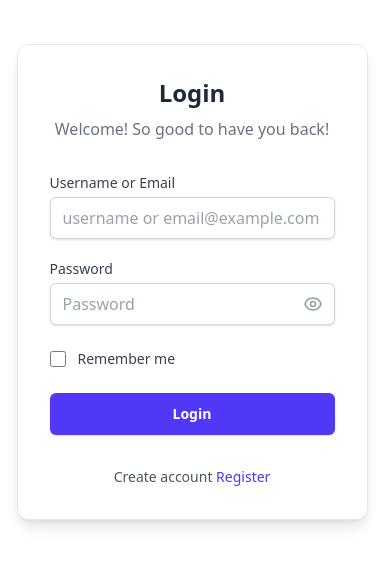
Test case: Login Component › should extract error message from err.message
This screenshot has width=385, height=574.
Step 1. Type "test@test.com" into the field with id "email" → {"x": 192, "y": 218}, box left=50, top=197, right=334, bottom=239
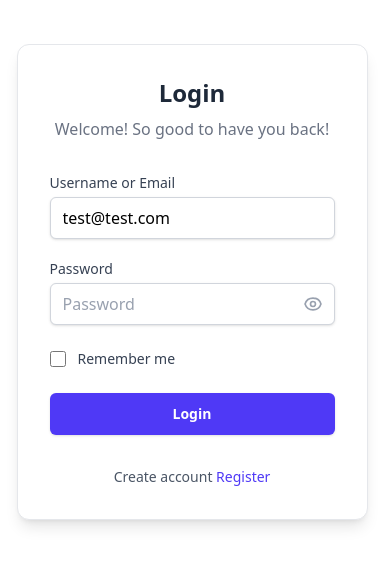
Step 2. Type "password123" into the password field with placeholder "Password" → {"x": 192, "y": 304}, box left=50, top=283, right=334, bottom=325
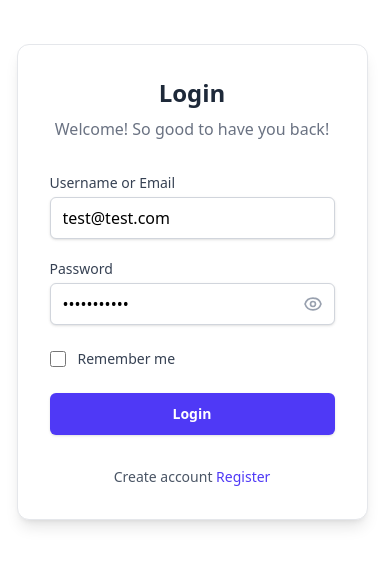
Step 3. Submit the form
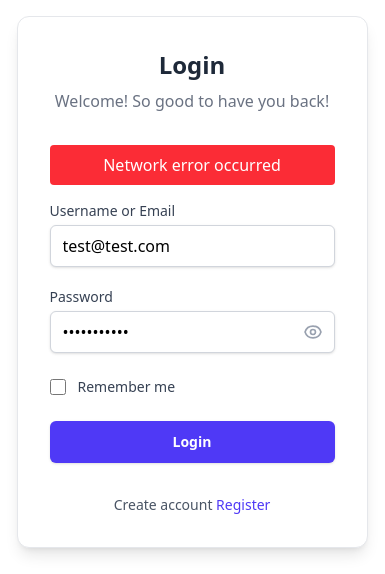
expect the text "Network error occurred" is shown: met, box left=103, top=154, right=281, bottom=176
